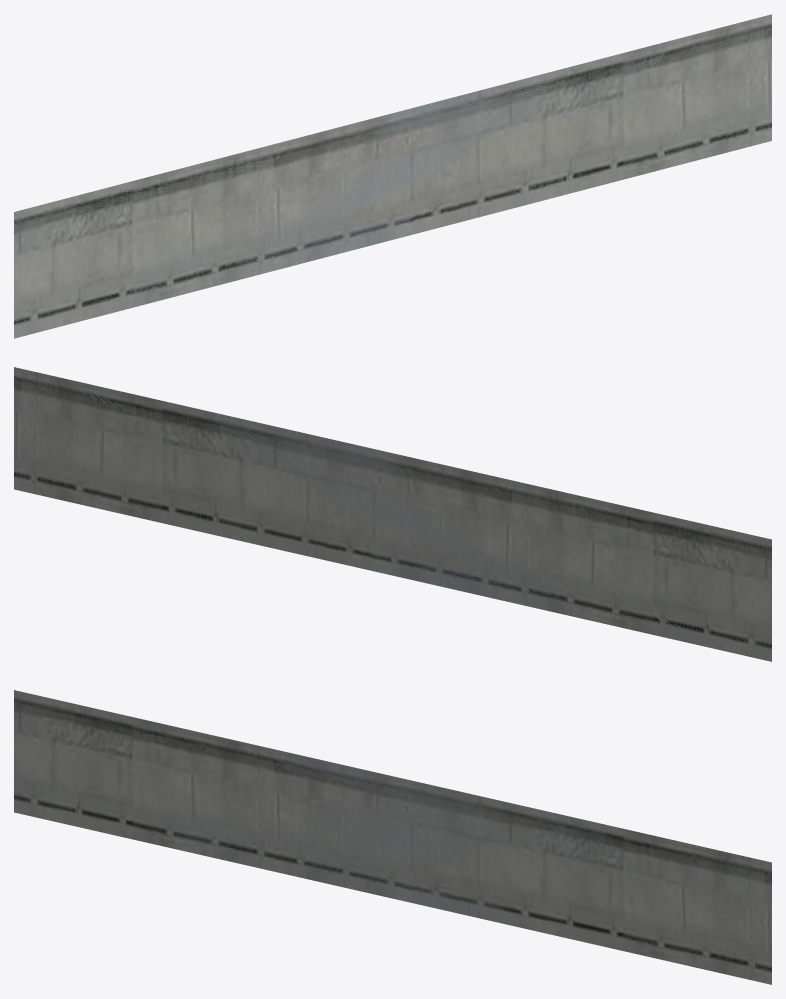
Rendered from 人民英雄纪念碑16.dae.
3 renders of one model, top to bottom at view 1: azimuth 30°, elevation 25°; view 2: azimuth 150°, elevation 25°; view 3: azimuth 330°, elevation 25°, orthographic. The views are drawn at different scales.
Visible parts, largest first — view 1: SketchUp; view 2: SketchUp; view 3: SketchUp.
Part boxes in pixels (<box>): SketchUp: <box>14,14,771,338</box>; SketchUp: <box>14,367,771,661</box>; SketchUp: <box>14,690,771,984</box>.
Bounding box in the file's own units: 451 × 13.4 × 70.87.
